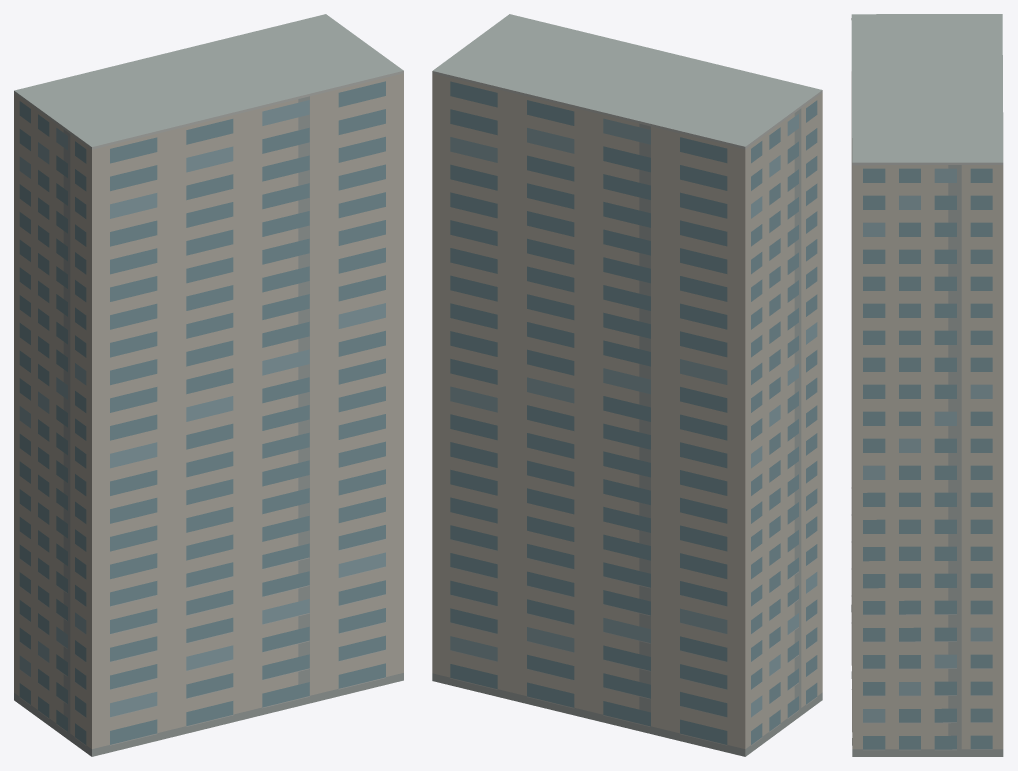
The model's file is residential-4eeff28c-ce60-4509-9554-a7e60830d458.glb.
3 views of the same model, side by side, from view 1: azimuth 30°, elevation 25°; view 2: azimuth 150°, elevation 25°; view 3: azimuth 270°, elevation 25° (orthographic). The views are drawn at different scales.
Parts seen in each view (by area): view 1: residential-4eeff28c-ce60-4509-9554-a7e60830d458.tmp; view 2: residential-4eeff28c-ce60-4509-9554-a7e60830d458.tmp; view 3: residential-4eeff28c-ce60-4509-9554-a7e60830d458.tmp.
Part boxes in pixels (x1,y1,x2,y2): residential-4eeff28c-ce60-4509-9554-a7e60830d458.tmp: [14, 14, 403, 756]; residential-4eeff28c-ce60-4509-9554-a7e60830d458.tmp: [432, 14, 822, 756]; residential-4eeff28c-ce60-4509-9554-a7e60830d458.tmp: [851, 14, 1003, 756].
Bounding box in the file's own units: 31.69 × 59 × 13.69.
